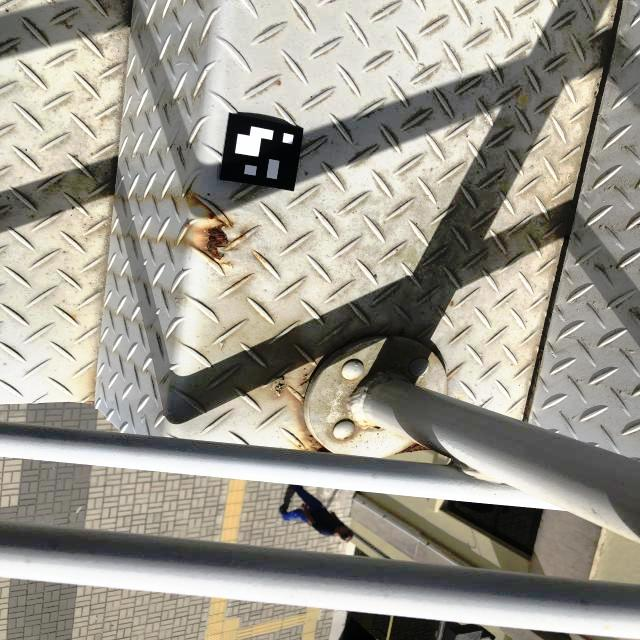Corrosion: (192, 203, 245, 268), (297, 430, 333, 453), (394, 443, 431, 454), (371, 425, 382, 429), (343, 436, 351, 440), (184, 222, 190, 227), (298, 399, 304, 404)
